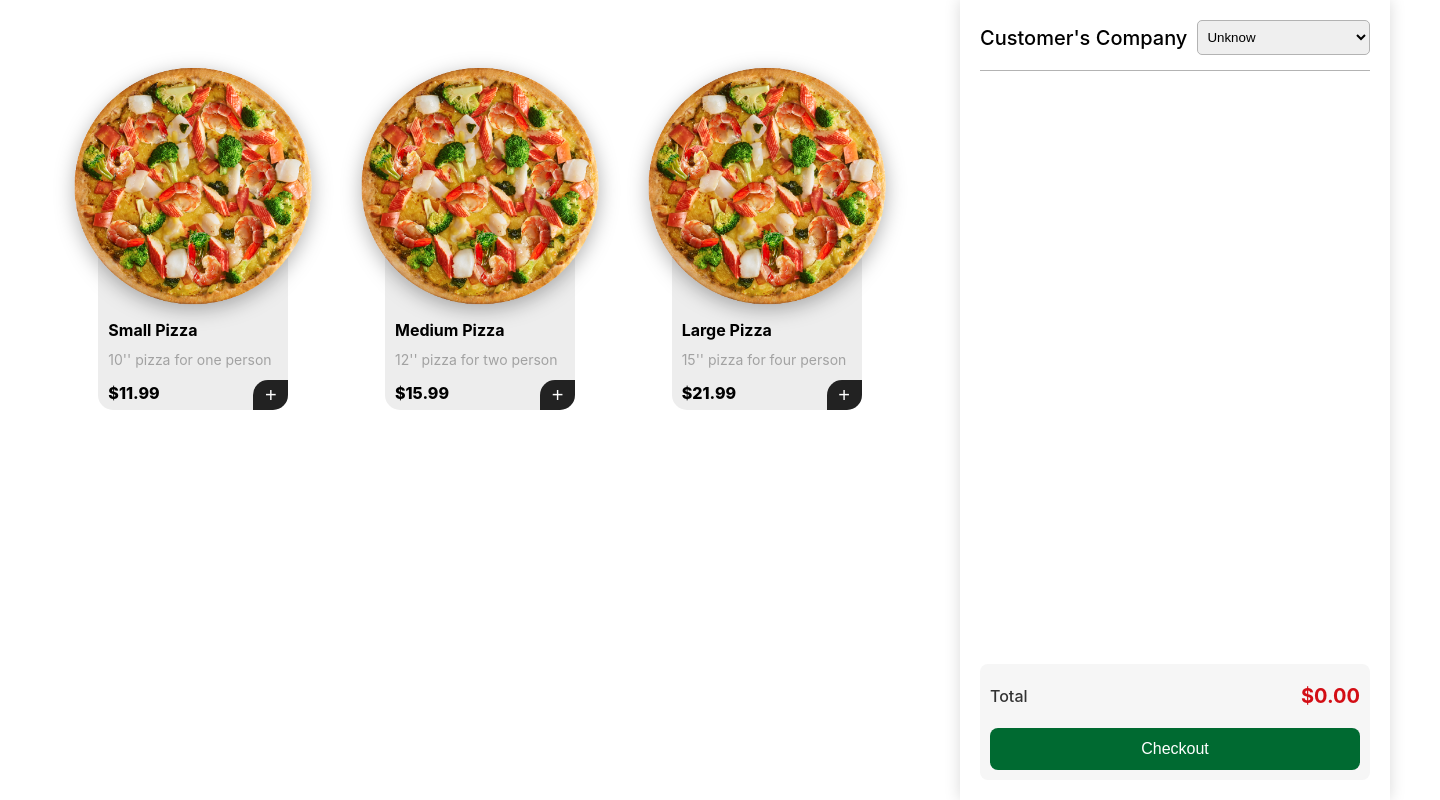
Test case: empty spec › Microsoft's staff should be discounted on 3 for 2 Small Pizza
This screenshot has width=1440, height=800.
Click the button with id "addToCheckout" at x=271, y=395, box [253, 380, 288, 410]
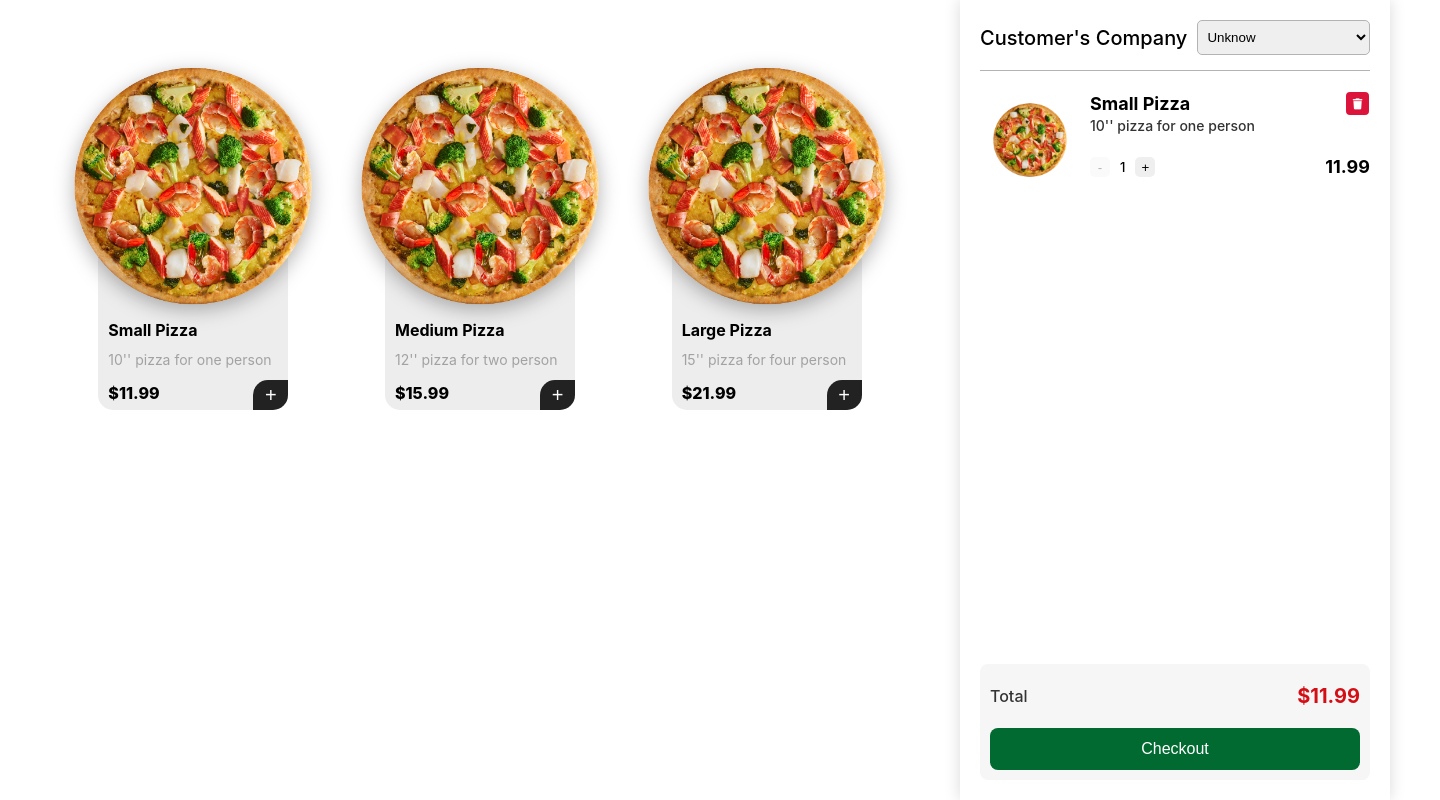
Click the button with id "addToCheckout" at x=271, y=395, box [253, 380, 288, 410]
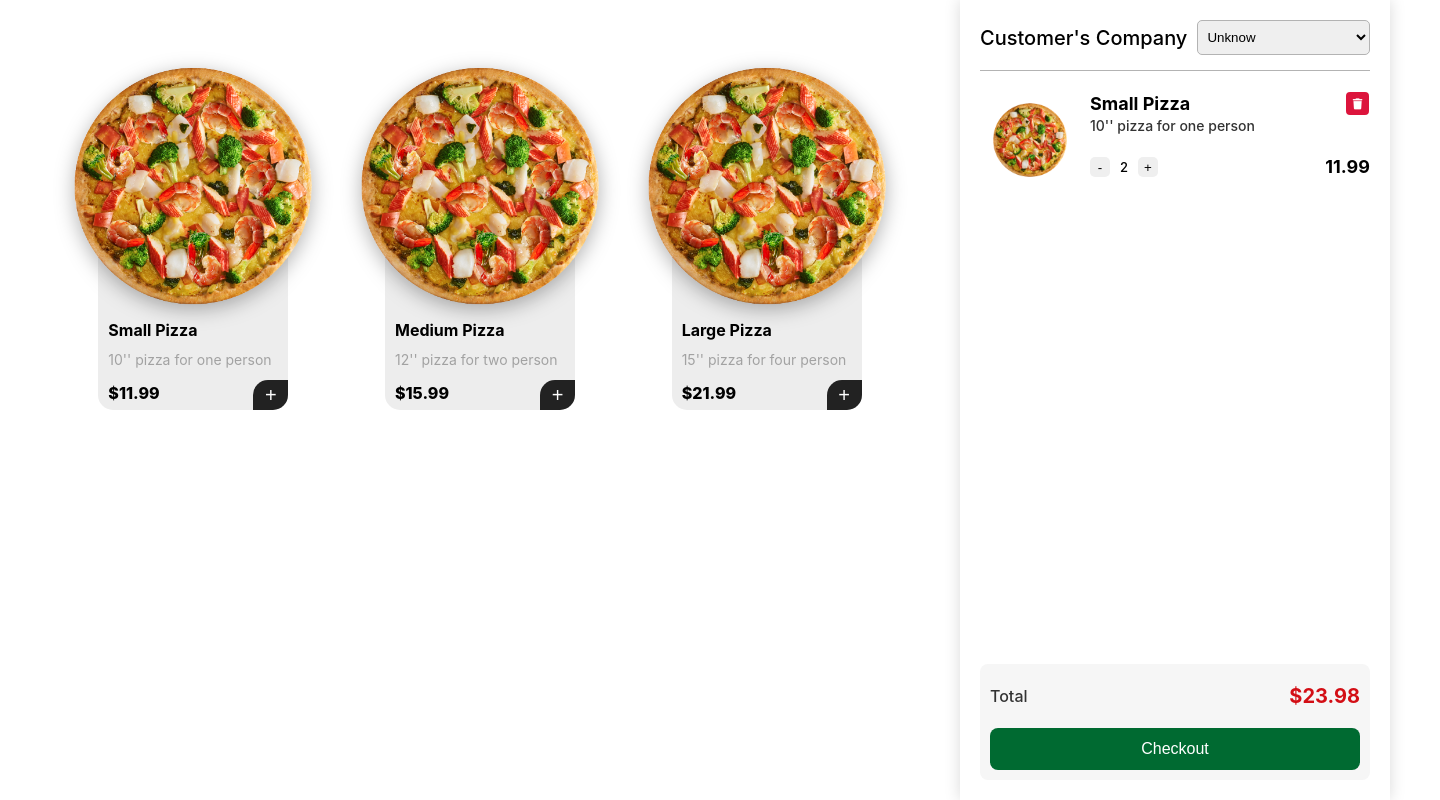
Click the button with id "addToCheckout" at x=271, y=395, box [253, 380, 288, 410]
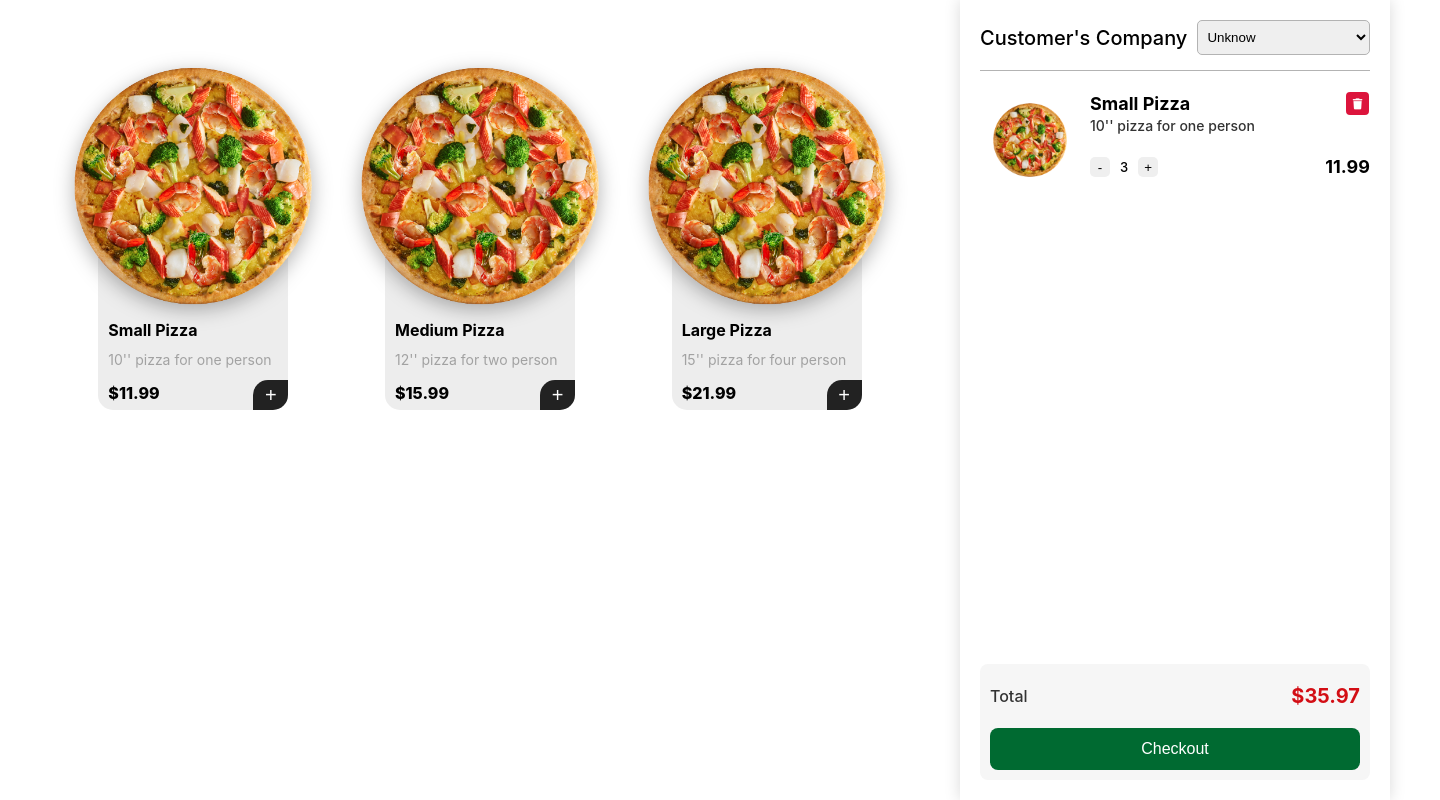
Click the button with id "addToCheckout" at x=845, y=395, box [827, 380, 862, 410]
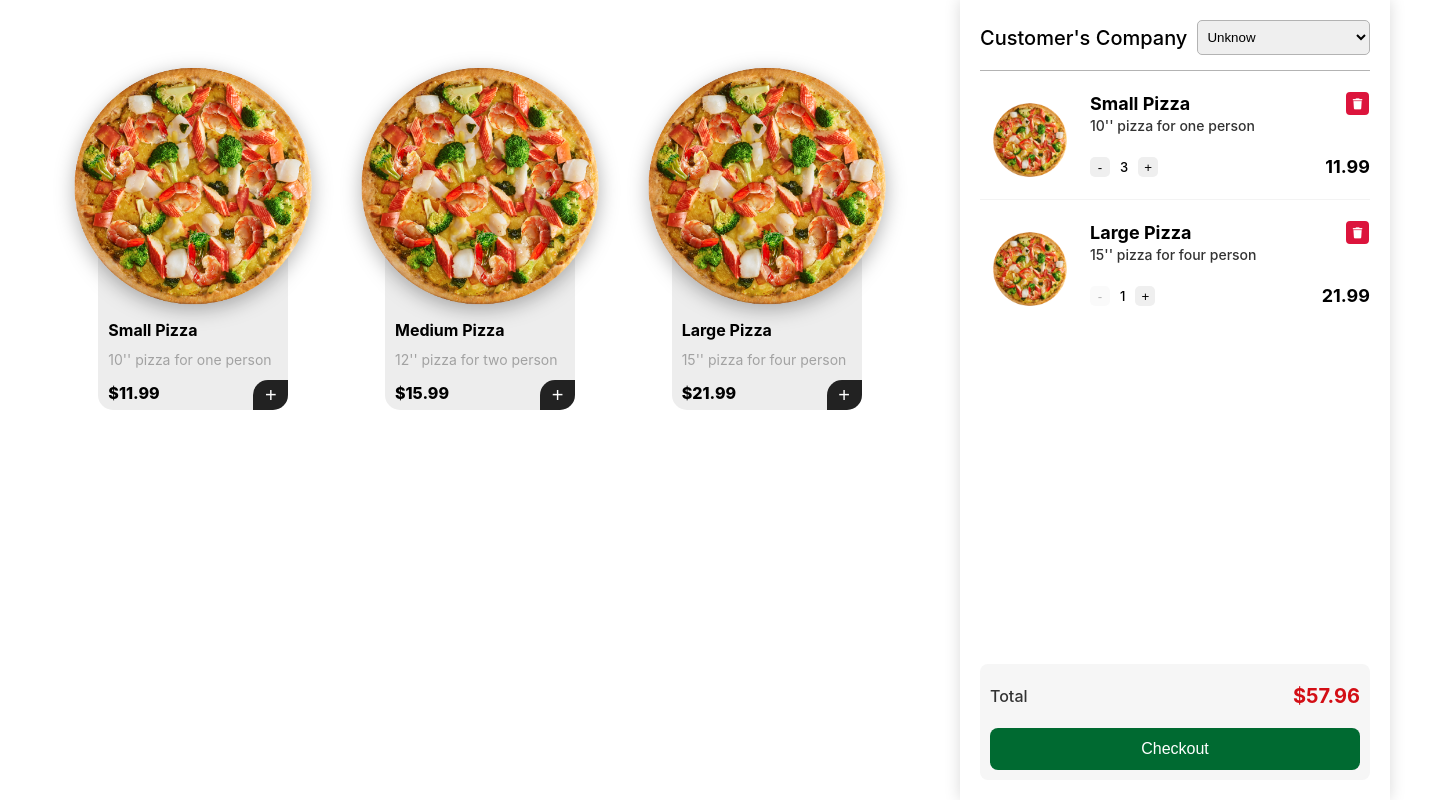
Select "Microsoft" in the dropdown with id "company_switcher" at x=1284, y=38, box [1197, 20, 1370, 55]
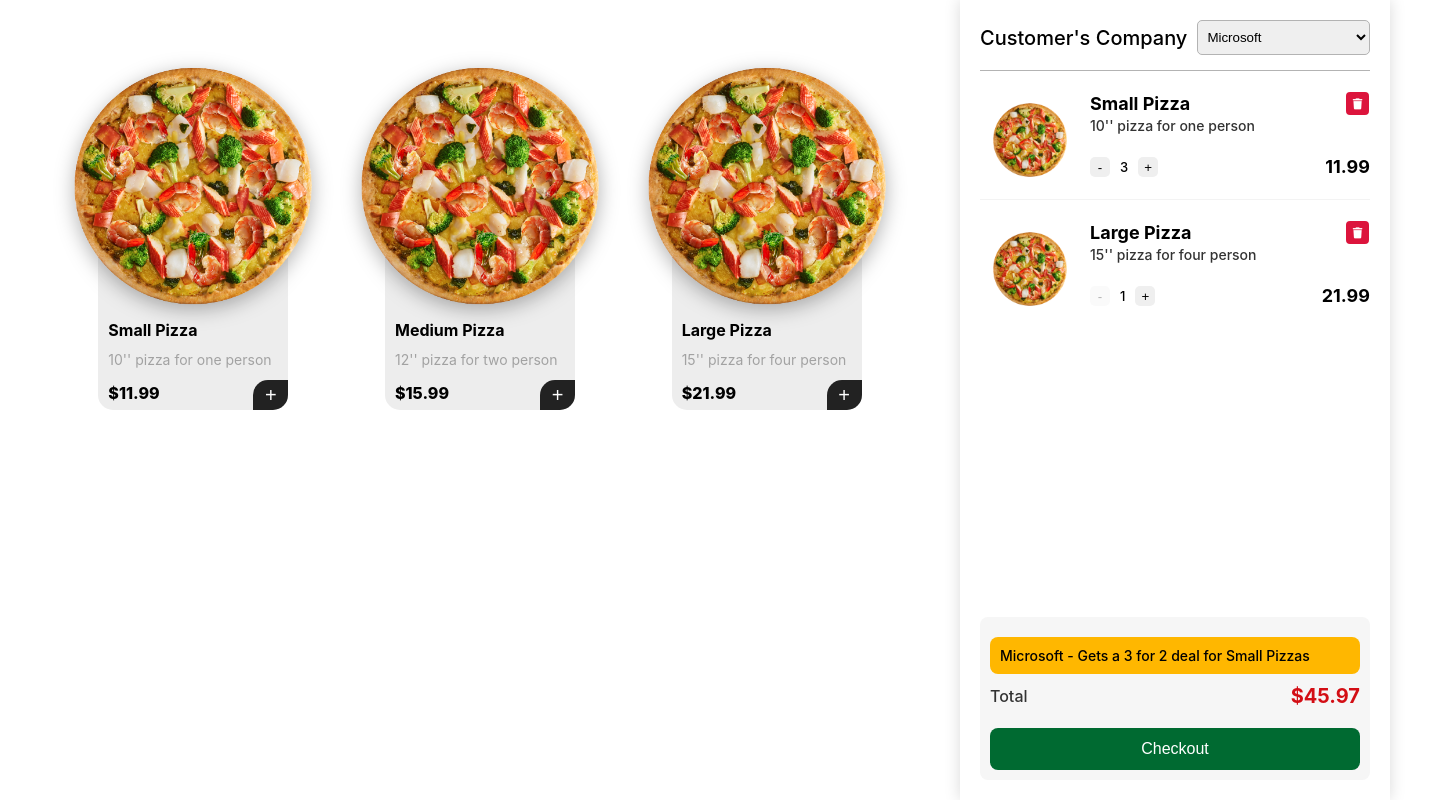
Check: the text with id "totalPrice" reads "$45.97", box [1291, 684, 1360, 708]
